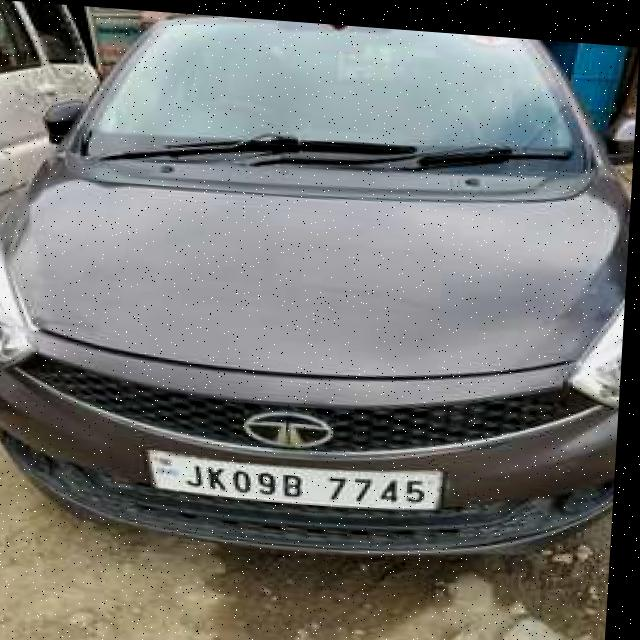plate: (146, 443, 451, 509)
